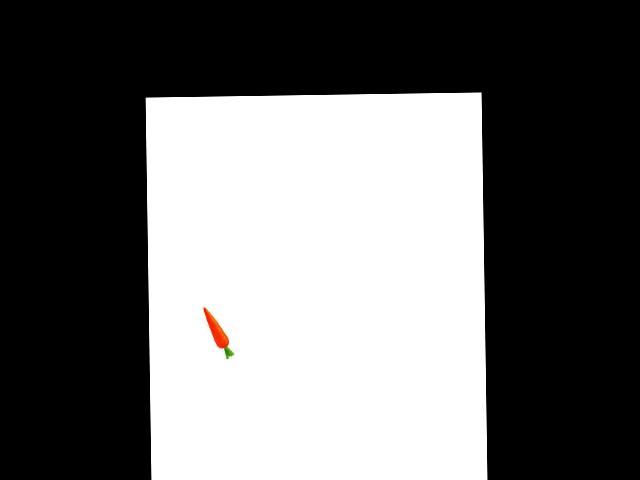carrot: (200, 305, 228, 354)
